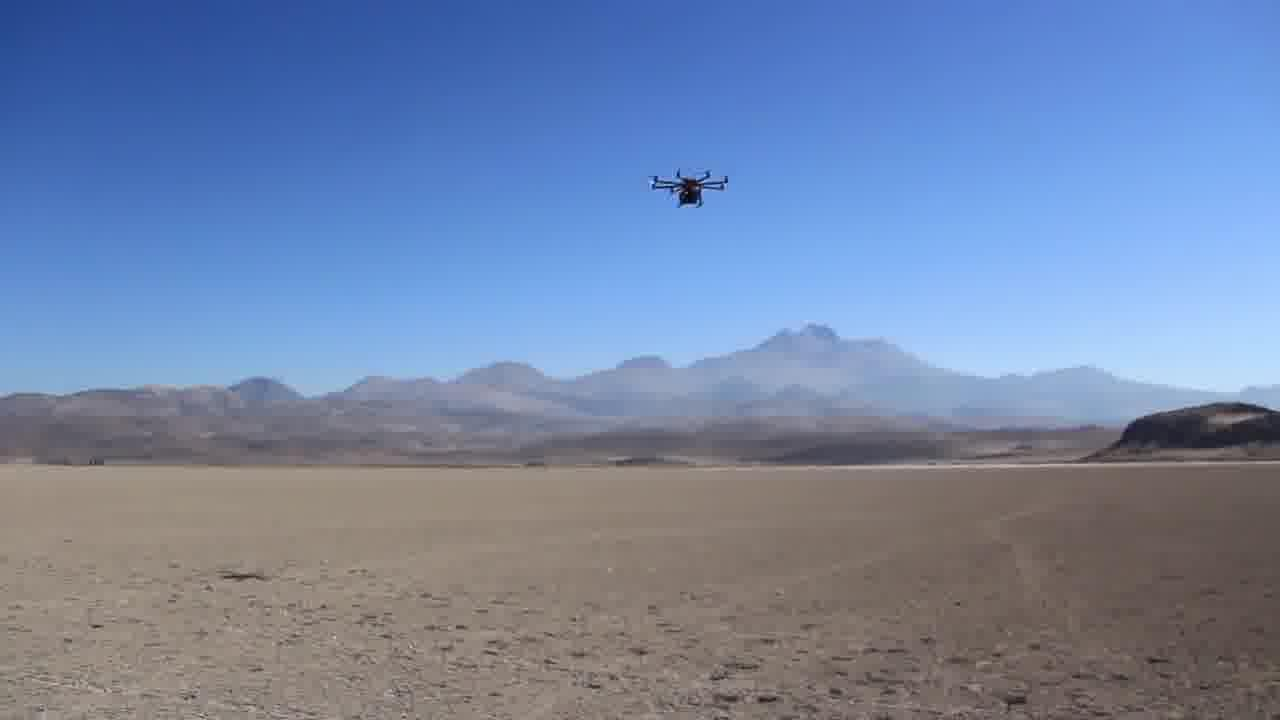drone: (646, 155, 737, 230)
